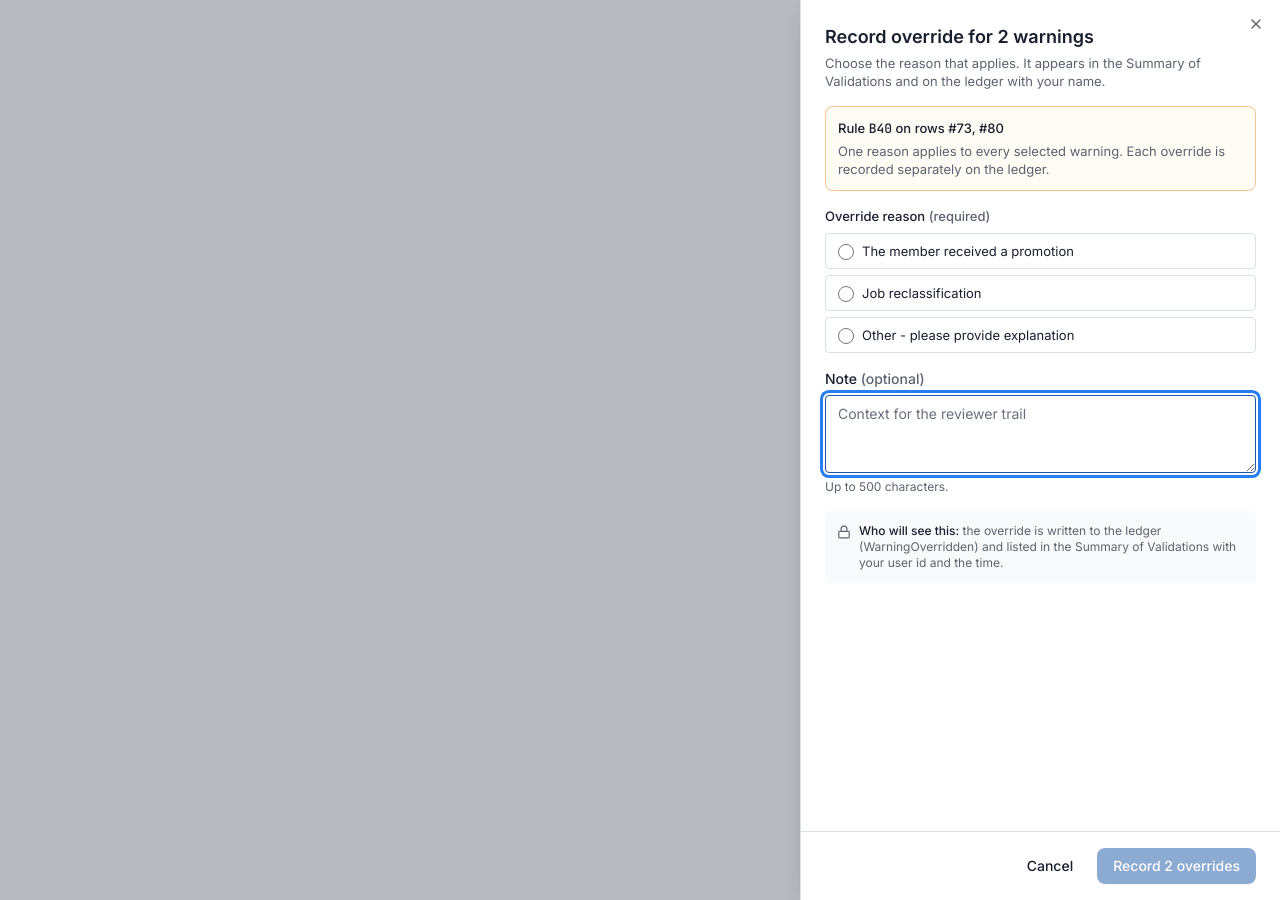
OverrideDrawer (ux 4.9 / 6.4 / 7.5) › bulk: one reason for several findings, per-item failures listed, partial toast
Expected: the heading "Record override for 2 warnings" is shown, [825,26,1094,47]
Expected: the list with test id "override-reasons" is shown, [825,233,1256,353]
Click the radio button labelled "Job reclassification" at (846, 294), box [838,286,854,302]
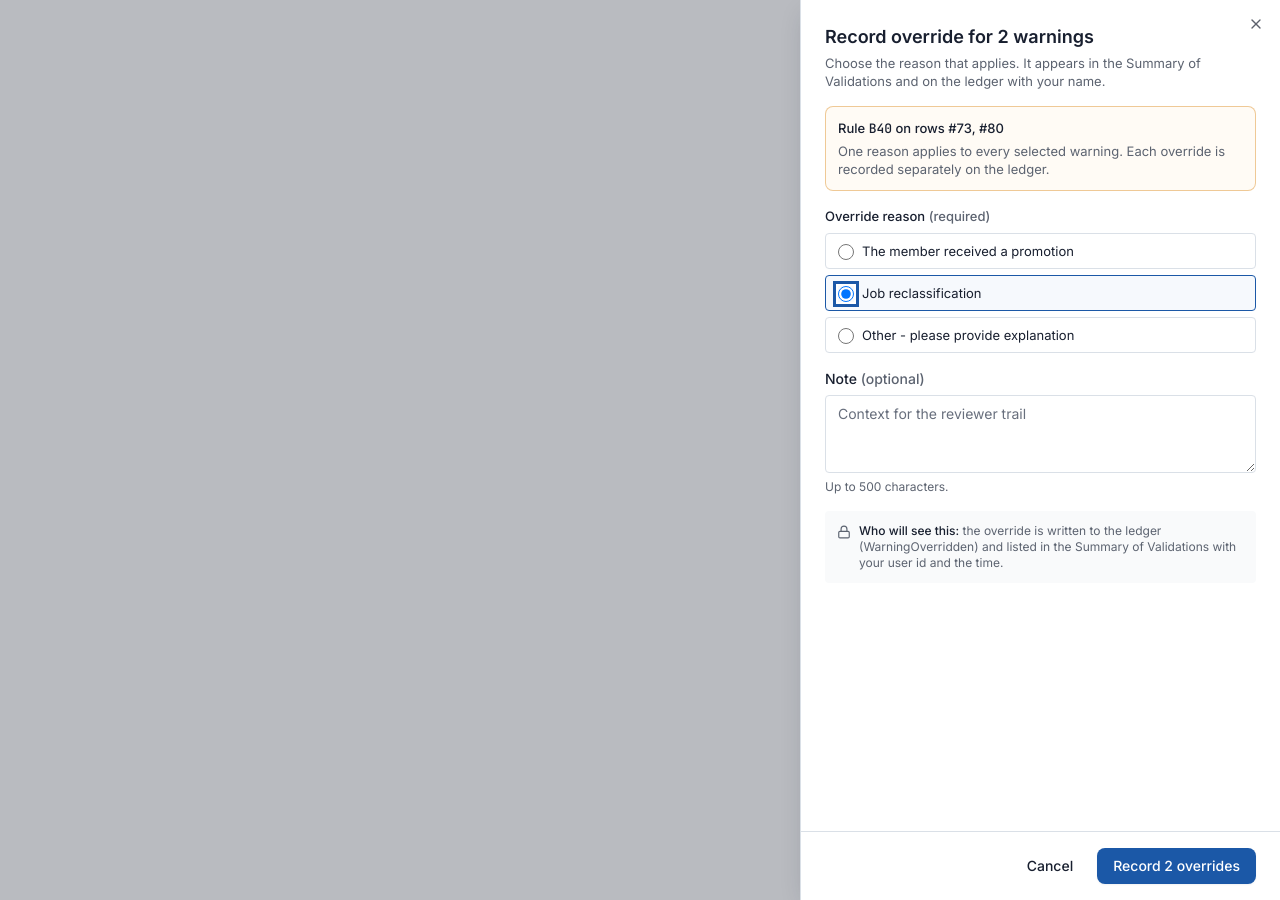
Click the button with test id "override-submit" at (1177, 866), box [1097,848,1256,884]
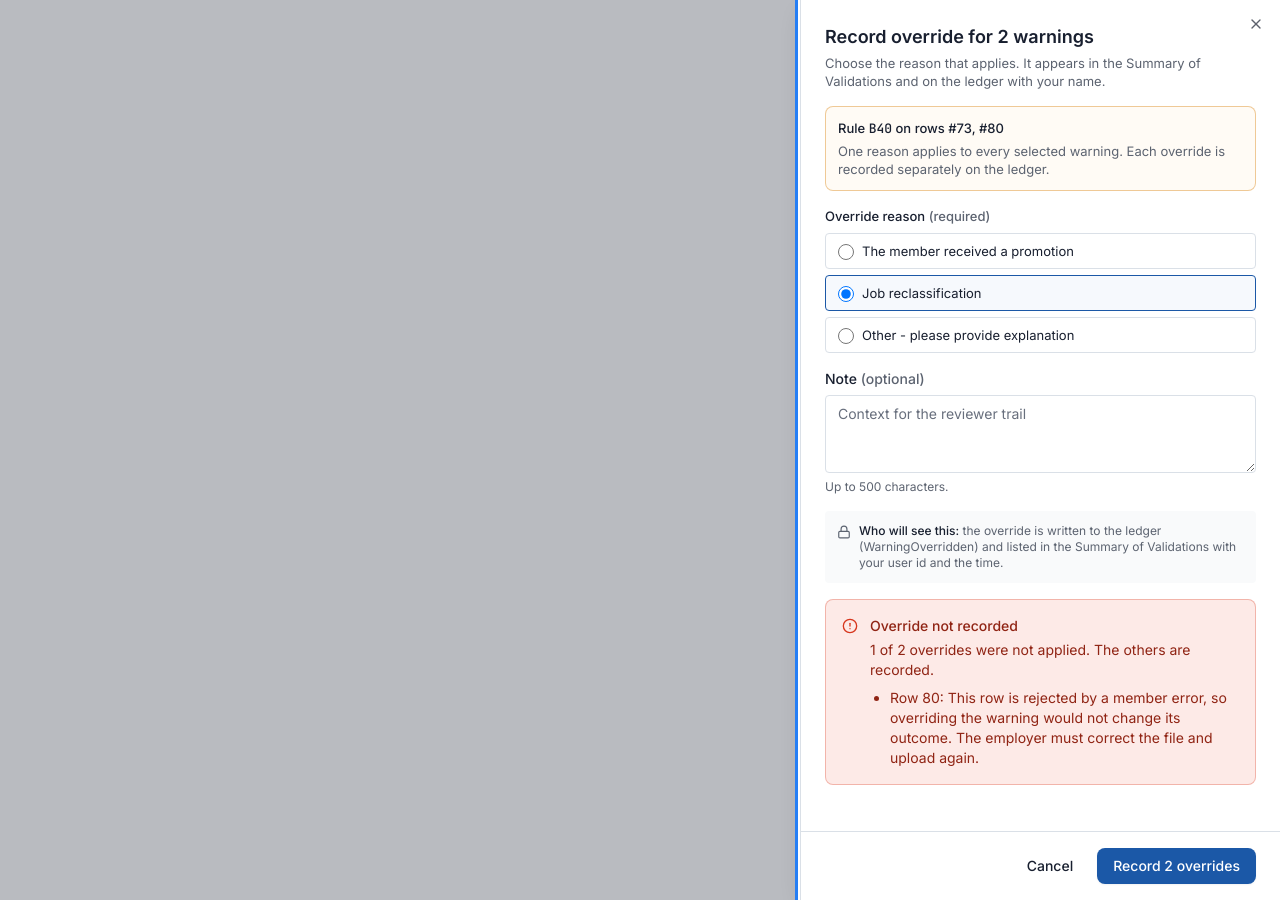
Now the list with test id "override-item-errors" shows "Row 80", box [870,688,1239,768]
Now the list with test id "override-item-errors" shows "This row is rejected by a member error, so overriding the warning would not change its outcome. The employer must correct the file and upload again.", box [890,689,1227,766]
